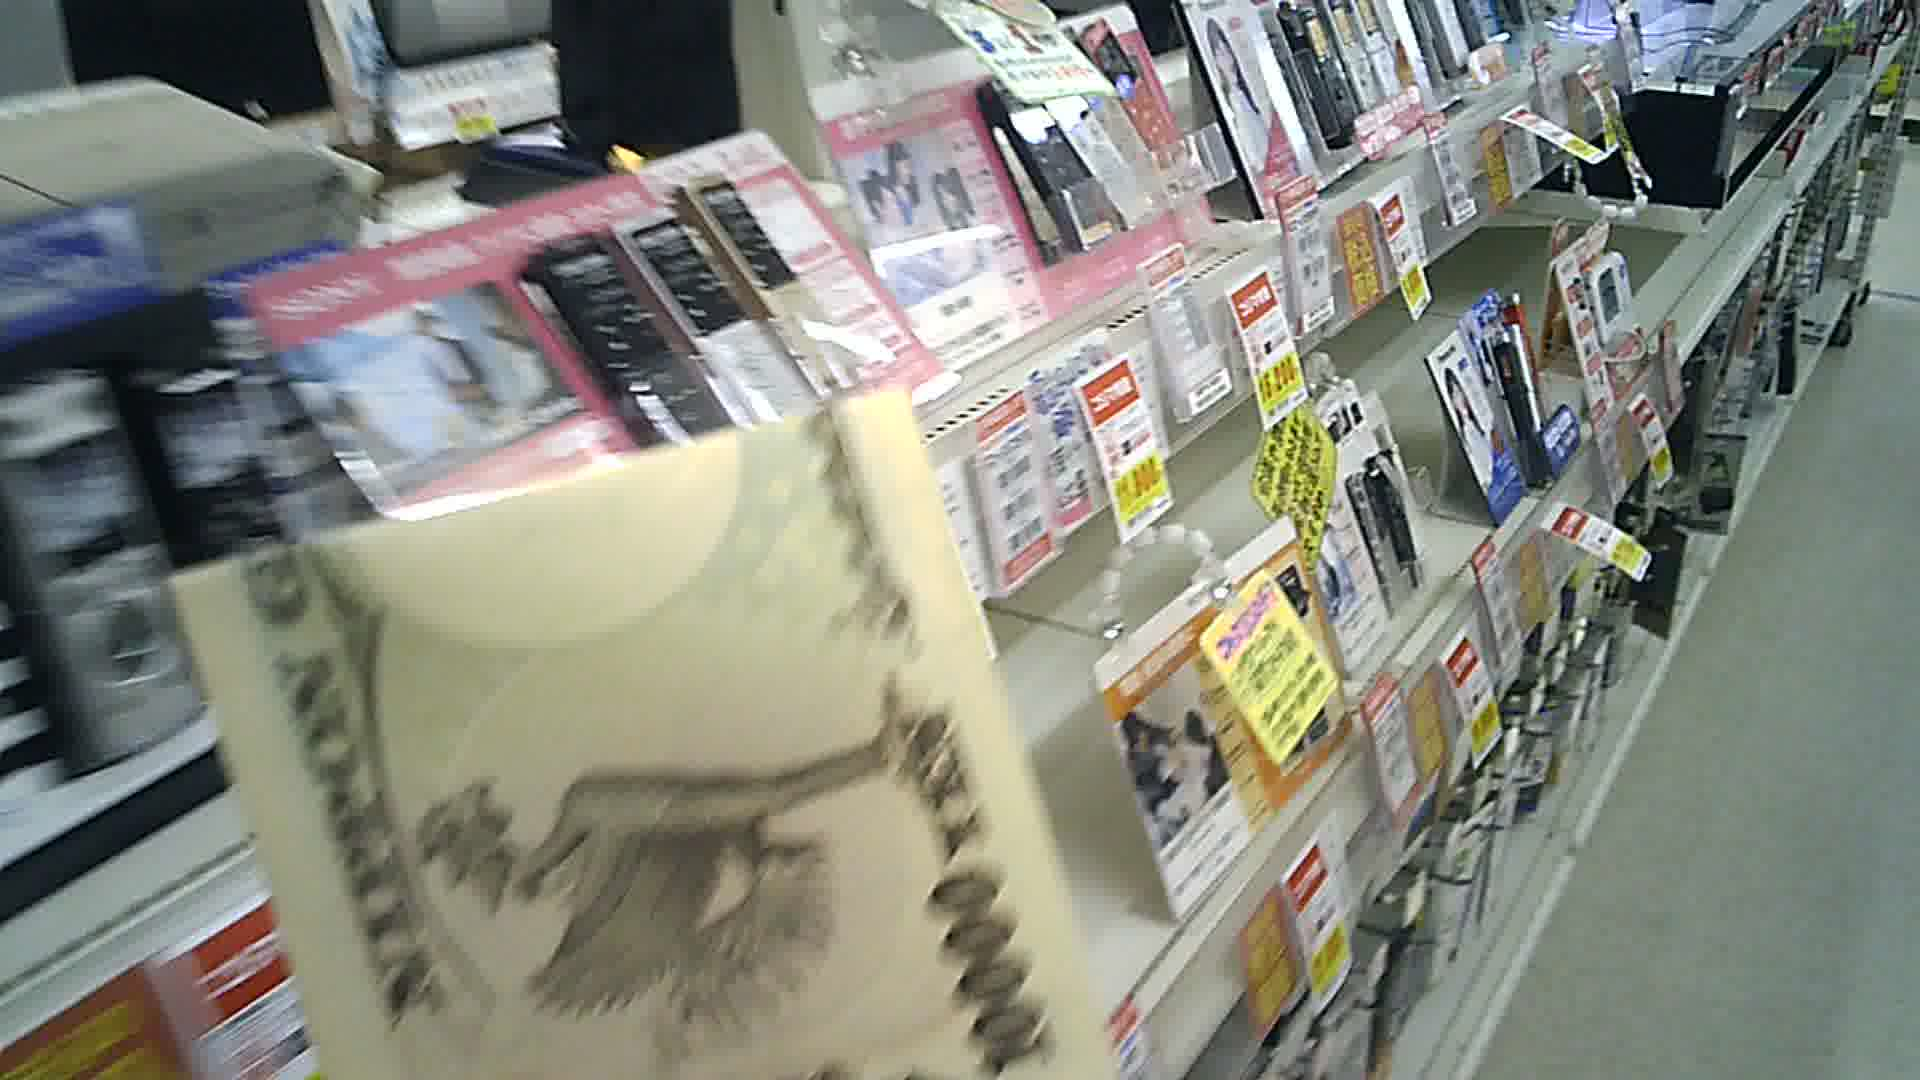10,000 Yen: (185, 417, 1142, 1064)
